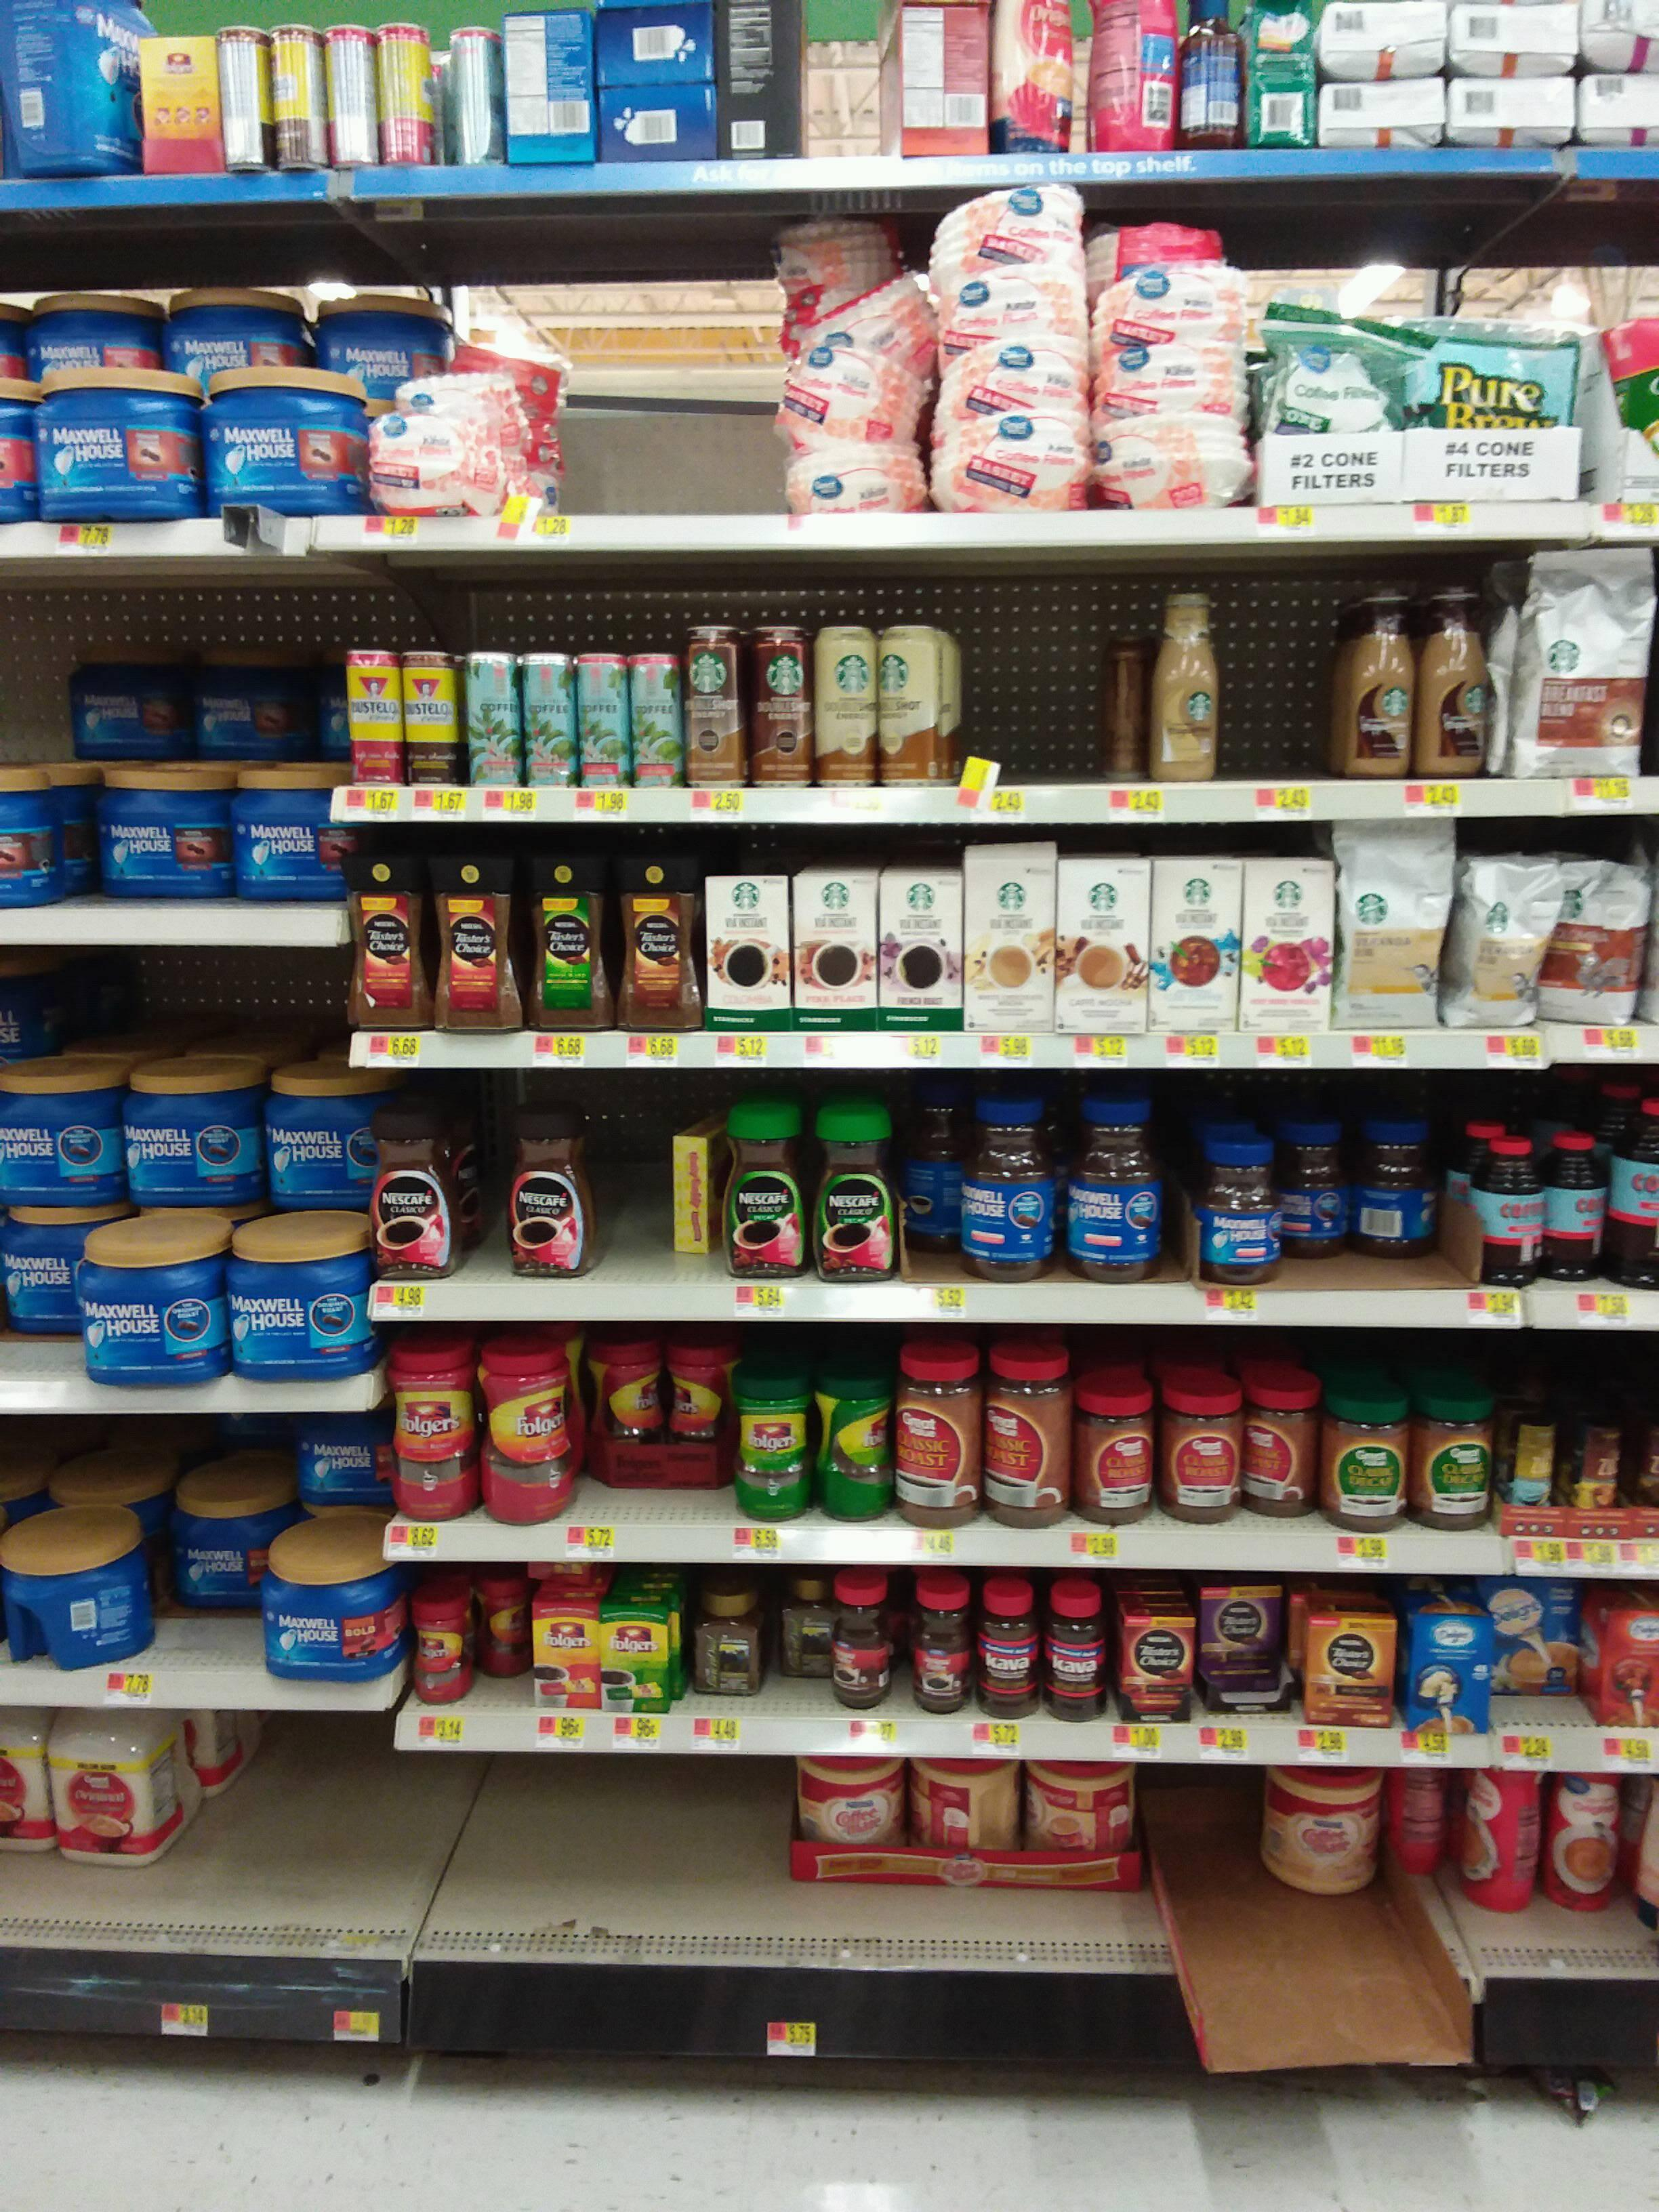misalignment: (1138, 1778, 1485, 2087), (7, 0, 143, 171), (890, 0, 997, 157), (721, 0, 814, 158), (645, 1103, 723, 1266), (1197, 1580, 1293, 1710)
